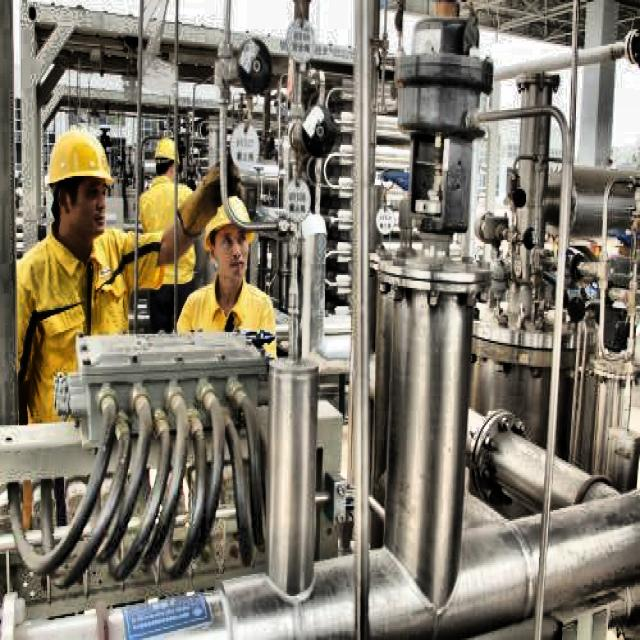helmet: (34, 125, 112, 249), (206, 185, 257, 292), (155, 130, 184, 183)
